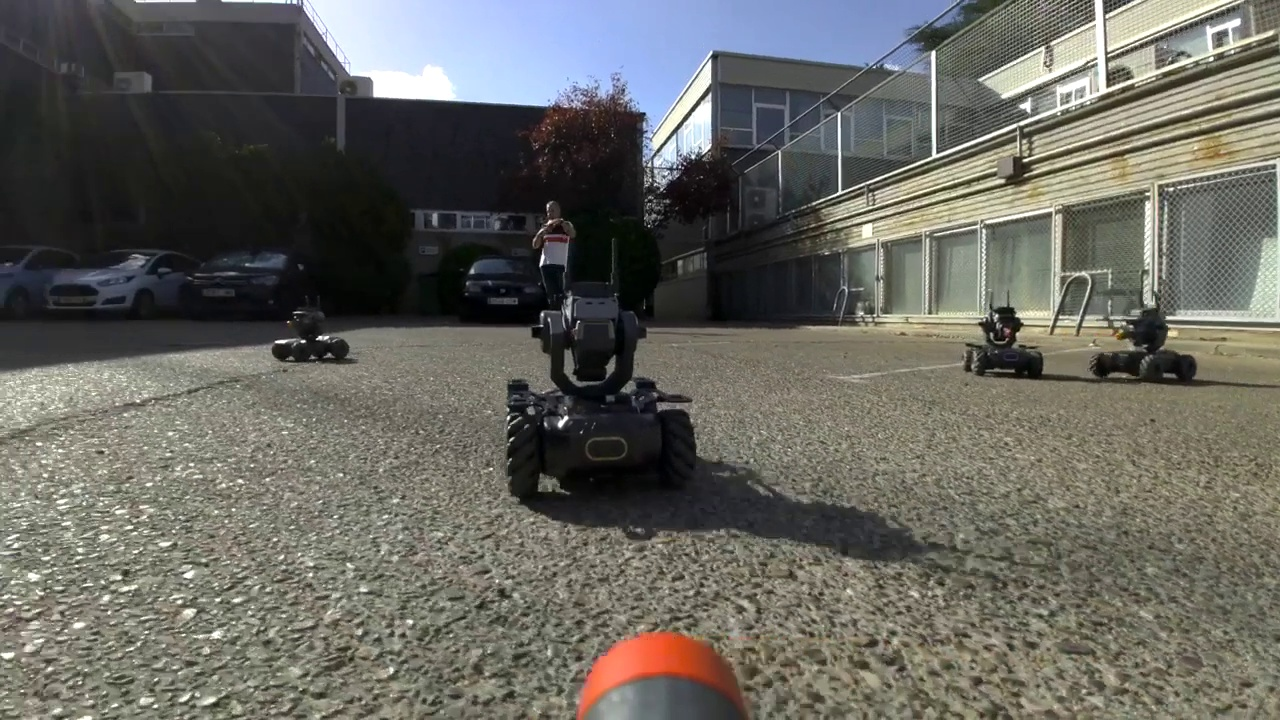robot: (505, 234, 700, 491), (1089, 270, 1195, 382), (965, 284, 1043, 378), (265, 293, 349, 364)
